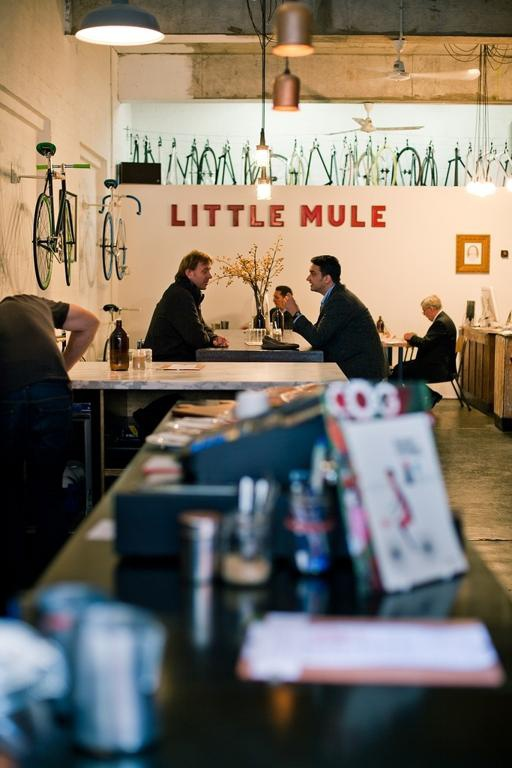non-vehicle: (30, 140, 90, 288), (94, 175, 143, 281)
